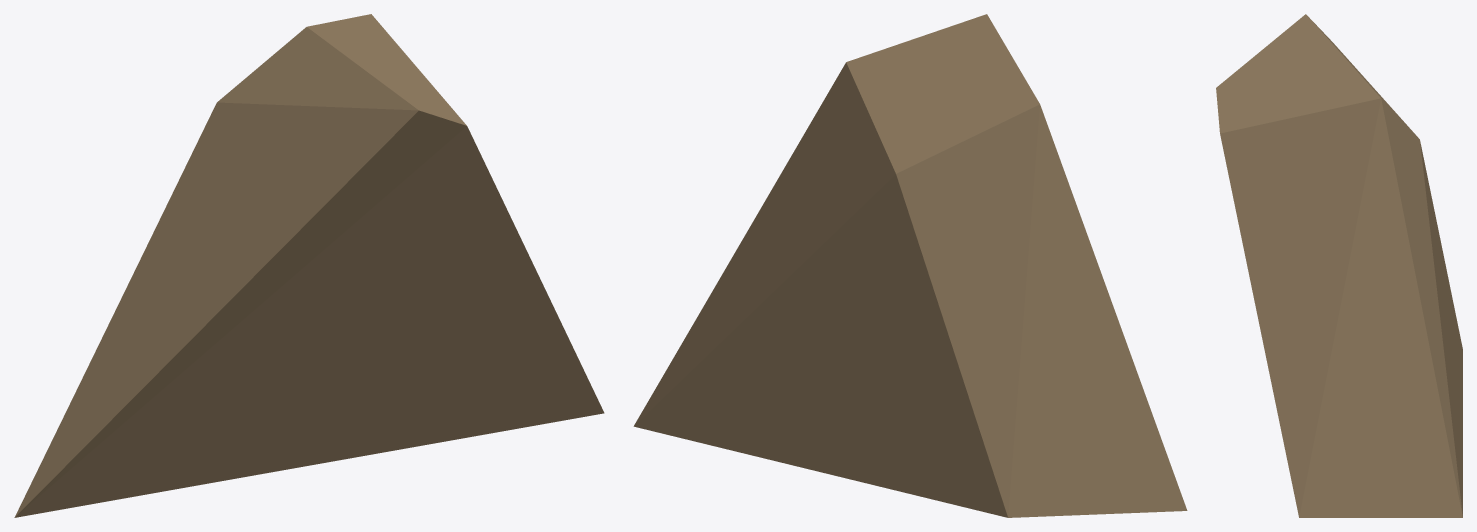
The model's file is Rock04.fbx.
3 renders of one model, left to right at view 1: azimuth 30°, elevation 25°; view 2: azimuth 150°, elevation 25°; view 3: azimuth 270°, elevation 25°, orthographic. The views are drawn at different scales.
Visible parts, largest first — view 1: Rock04; view 2: Rock04; view 3: Rock04.
Part boxes in pixels (x1,y1,x2,y2): Rock04: (14, 14, 604, 517); Rock04: (633, 14, 1187, 517); Rock04: (1216, 14, 1462, 517).
Bounding box in the file's own units: 12.86 × 10.17 × 5.94.
